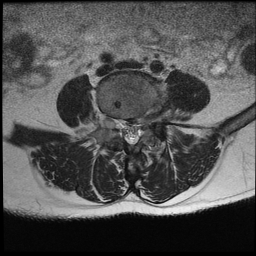CCS_normal: (128, 112, 136, 149)
LFS_severe_stenosis: (143, 109, 151, 135)
LLS_normal: (136, 114, 144, 146)
RFS_normal: (112, 109, 120, 135)
RLS_normal: (121, 112, 128, 145)
